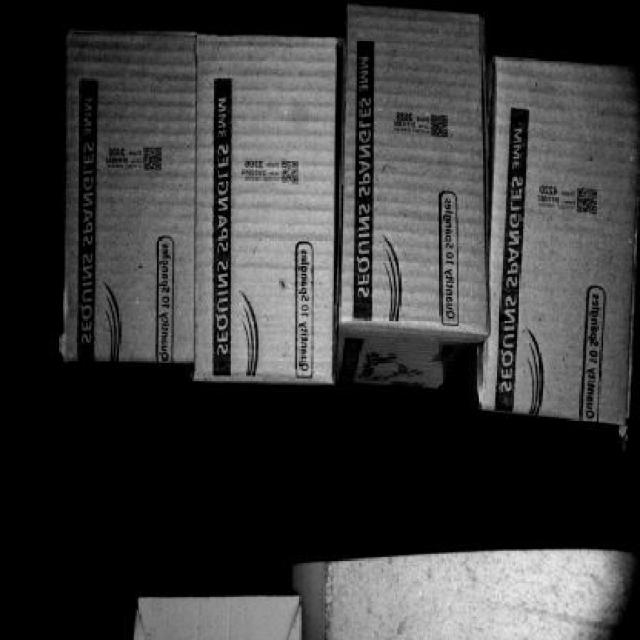cardboxes: (482, 67, 633, 416), (198, 43, 333, 380), (341, 9, 482, 329), (65, 28, 192, 355)
